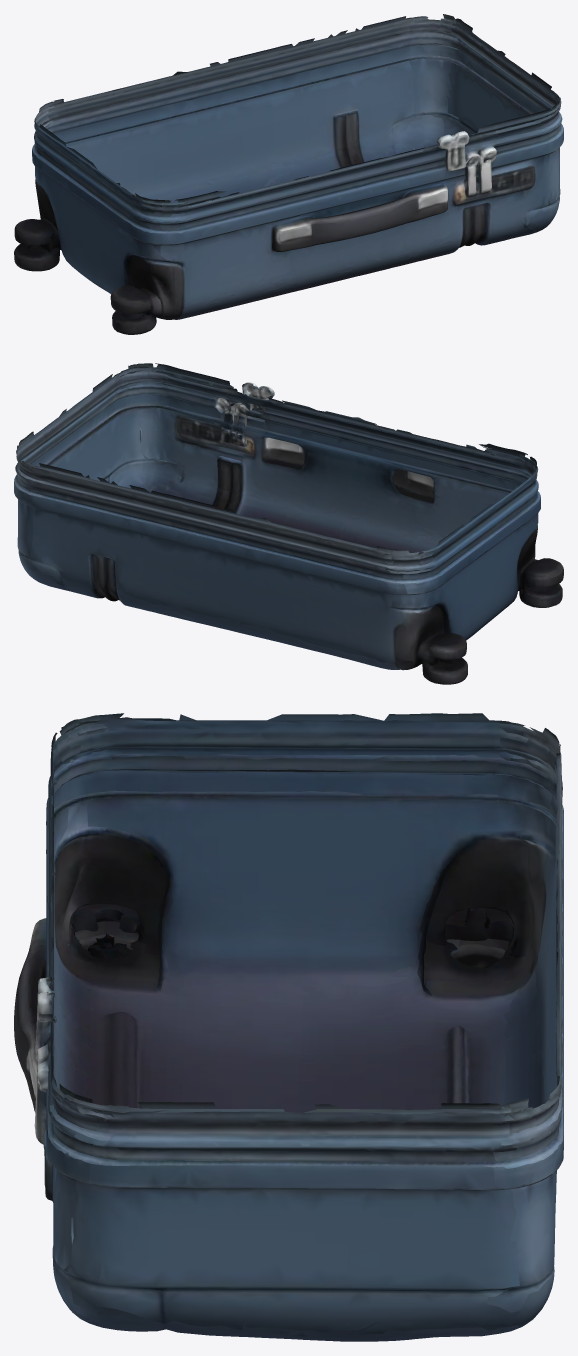
3 views of the same model, one above another, from view 1: azimuth 30°, elevation 25°; view 2: azimuth 150°, elevation 25°; view 3: azimuth 270°, elevation 25° (orthographic). The views are drawn at different scales.
Parts seen in each view (by area): view 1: world; view 2: world; view 3: world.
Boxes of the visible parts, x1,y1,x2,y2 form: world: (14, 14, 563, 334); world: (14, 363, 563, 684); world: (14, 713, 563, 1341).
Size of the model in its own units: 0.68 by 0.2034 by 0.3793.
1 material, 1 textured.
